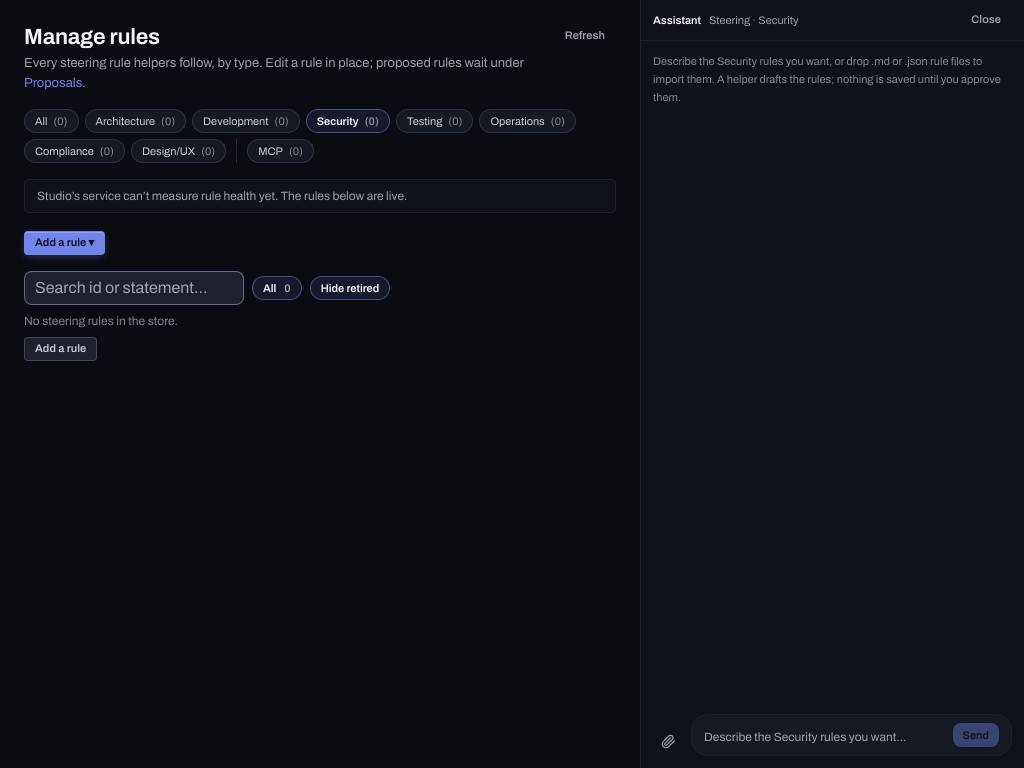
Test: SteeringPage — the ONE Add menu (two entries now) › lists Add row + Open assistant; Add row opens the grid draft, nothing else renders by default
What coordinates should you click on to do the following:
click the button with test id "steering-add-menu"
I would click on:
 (65, 243)
Its box is [24,231,105,255].
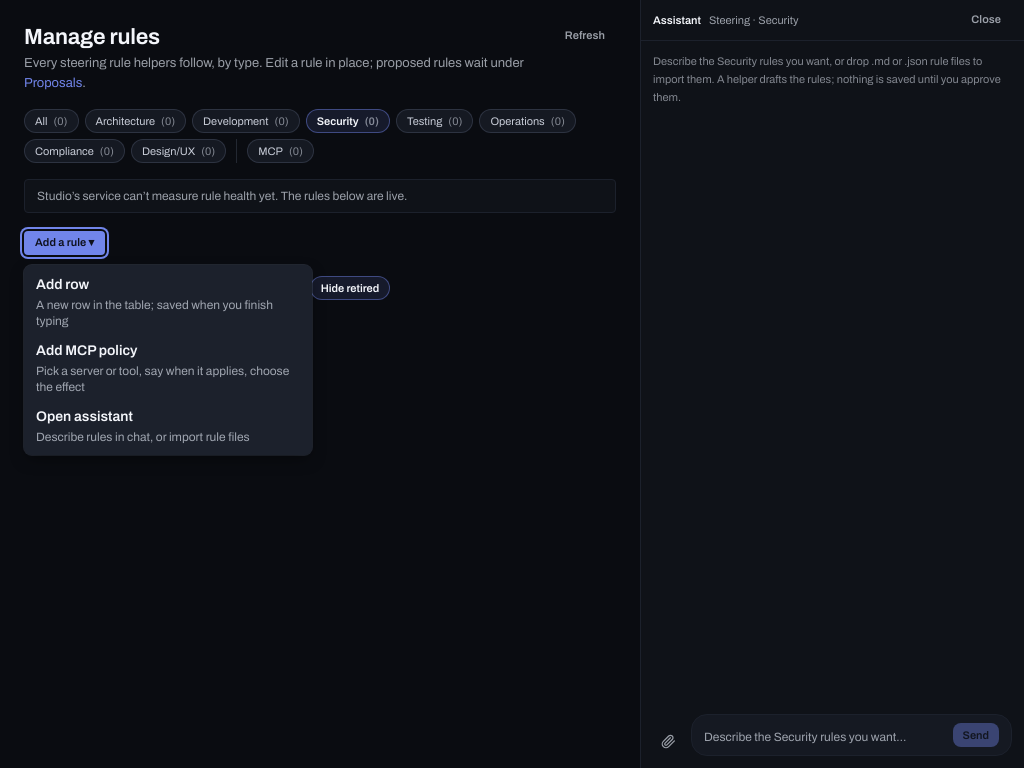
expect the menu item with test id "steering-add-open" is shown: met
expect the menu item with test id "steering-assist-open" is shown: met, box [24,401,312,451]
// Add row → the grid's editable draft row (the modal form's add flow died).
What coordinates should you click on to do the following:
click the menu item with test id "steering-add-open"
I would click on:
 (168, 302)
Its box is [24,269,312,335].
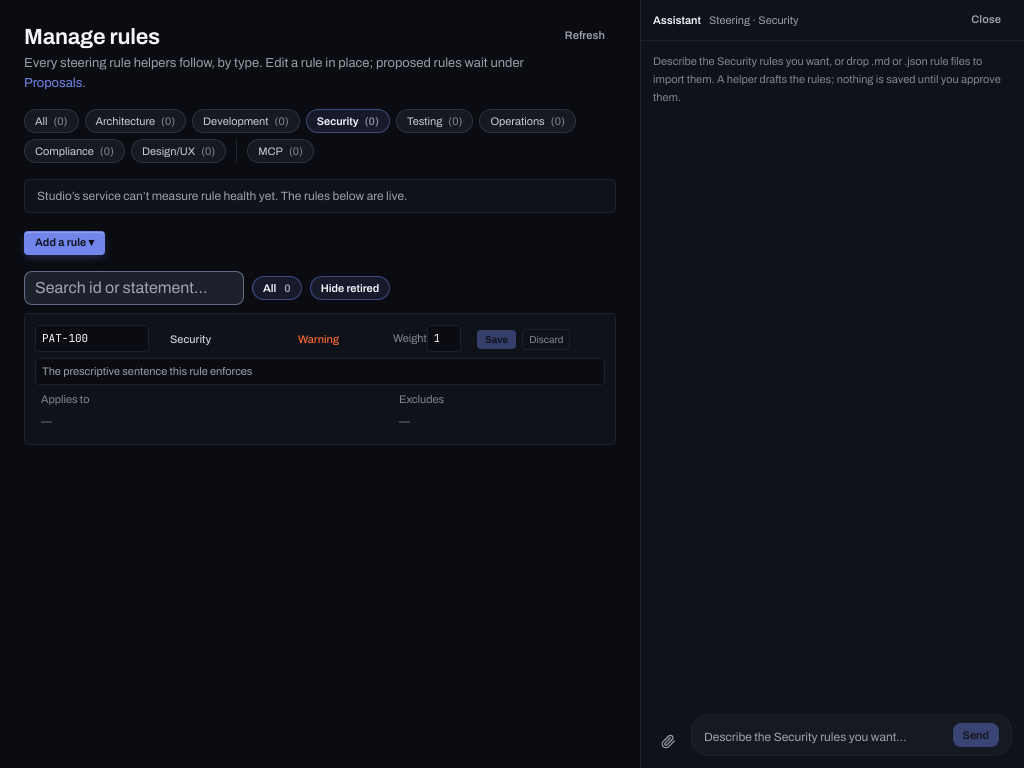
expect the row with test id "steering-grid-draft" is shown: met, box [25,314,615,444]
expect the menu with test id "steering-add-menu-list" is gone: met
